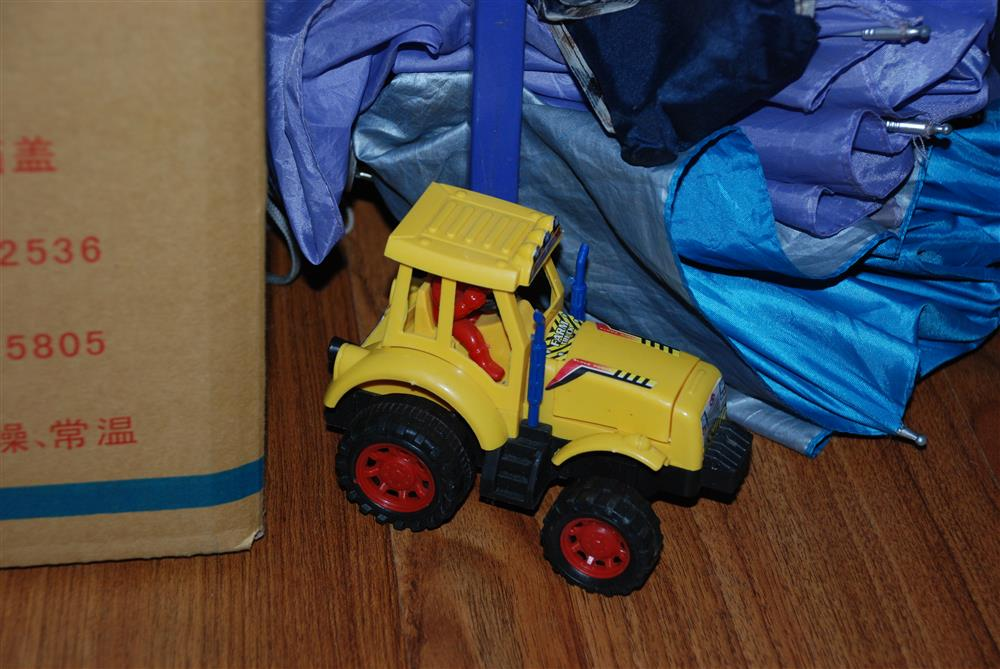toy_jeep: (322, 180, 754, 599)
